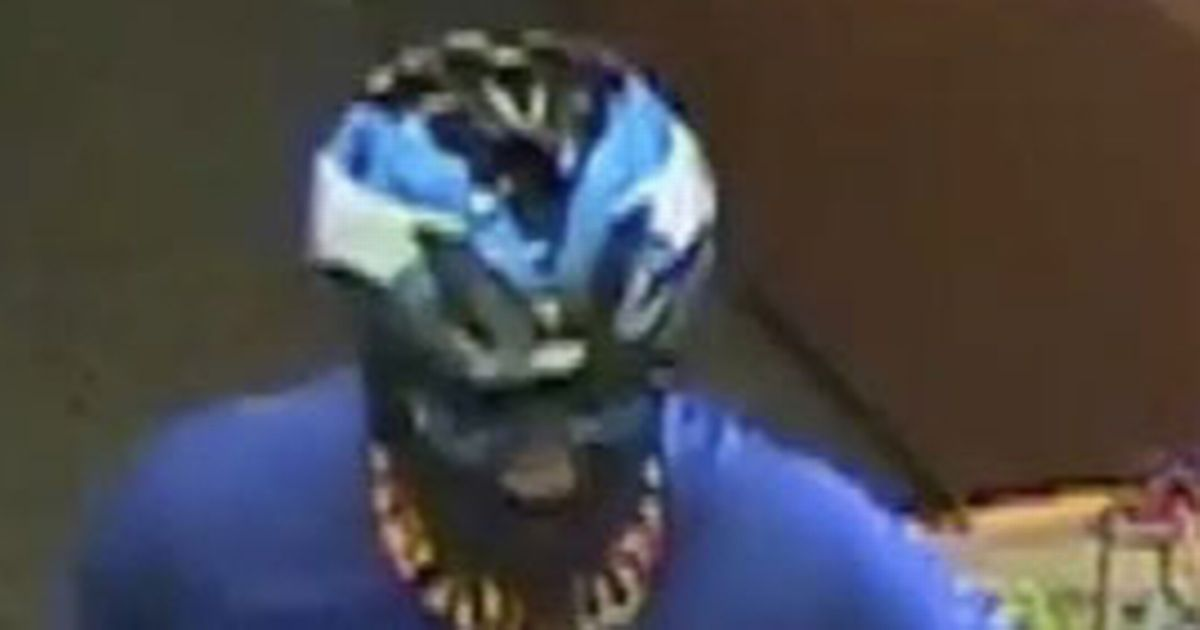helmet: (275, 4, 743, 322)
